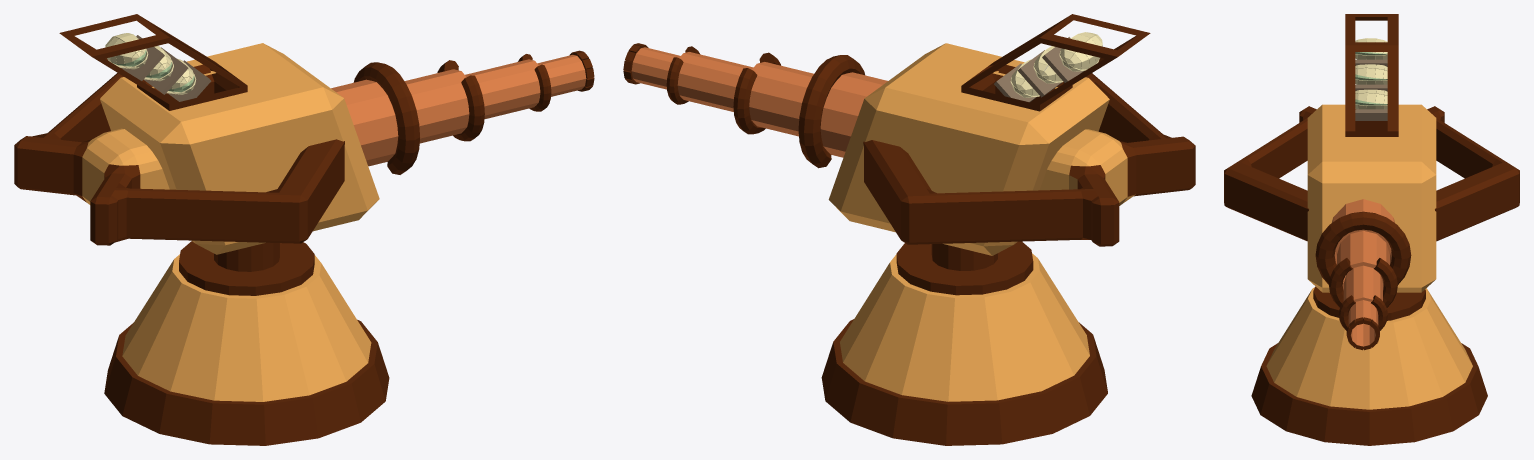
The model's file is Fistik.fbx.
3 renders of one model, left to right at view 1: azimuth 30°, elevation 25°; view 2: azimuth 150°, elevation 25°; view 3: azimuth 270°, elevation 25°, orthographic. The views are drawn at different scales.
Visible parts, largest first — view 1: kurdanatar_ust.003, kurdanatar_alt.002, Cylinder.006, Cube.001, Torus.003, Cylinder.007, Cylinder.008, Torus.004, Torus.005; view 2: kurdanatar_ust.003, kurdanatar_alt.002, Cylinder.006, Cube.001, Torus.003, Cylinder.007, Cylinder.008, Torus.004, Torus.005; view 3: kurdanatar_ust.003, kurdanatar_alt.002, Torus.003, Cube.001, Cylinder.006, Cylinder.008, Torus.004, Cylinder.007, Torus.005.
Part boxes in pixels (<box>): kurdanatar_ust.003: <box>14,14,398,254</box>; kurdanatar_alt.002: <box>104,241,389,445</box>; Cylinder.006: <box>404,69,469,143</box>; Cube.001: <box>105,33,211,101</box>; Torus.003: <box>353,62,419,174</box>; Cylinder.007: <box>465,59,540,118</box>; Cylinder.008: <box>537,50,594,96</box>; Torus.004: <box>437,60,484,141</box>; Torus.005: <box>518,54,551,111</box>; kurdanatar_ust.003: <box>820,14,1195,255</box>; kurdanatar_alt.002: <box>821,241,1107,445</box>; Cylinder.006: <box>749,62,813,136</box>; Cube.001: <box>994,32,1102,102</box>; Torus.003: <box>798,55,864,168</box>; Cylinder.007: <box>677,52,753,111</box>; Cylinder.008: <box>623,43,680,89</box>; Torus.004: <box>733,52,780,134</box>; Torus.005: <box>666,46,700,104</box>; kurdanatar_ust.003: <box>1224,14,1519,292</box>; kurdanatar_alt.002: <box>1251,286,1487,445</box>; Torus.003: <box>1315,211,1411,284</box>; Cube.001: <box>1355,38,1387,120</box>; Cylinder.006: <box>1337,231,1389,290</box>; Cylinder.008: <box>1346,300,1379,350</box>; Torus.004: <box>1329,258,1397,307</box>; Cylinder.007: <box>1343,265,1382,301</box>; Torus.005: <box>1338,295,1387,330</box>.
Size of the model in its own units: 422 by 293 by 250.
Materials: 10 (10 with a texture image).
